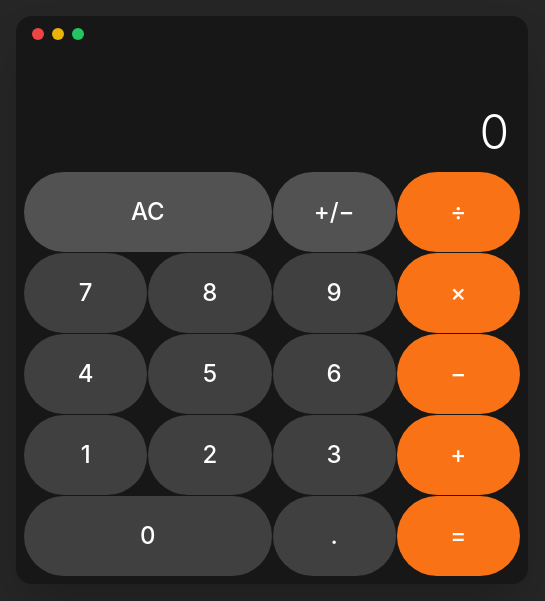
Calculator › replaces leading zero with first digit
Click the button "5".
click(210, 374)  # box [148,334,272,414]
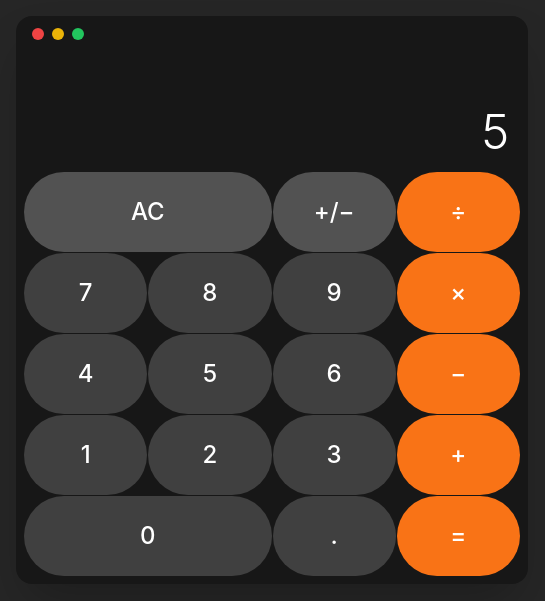
Check: the message with test id "display" reads "5", box [481,102,508,161]
